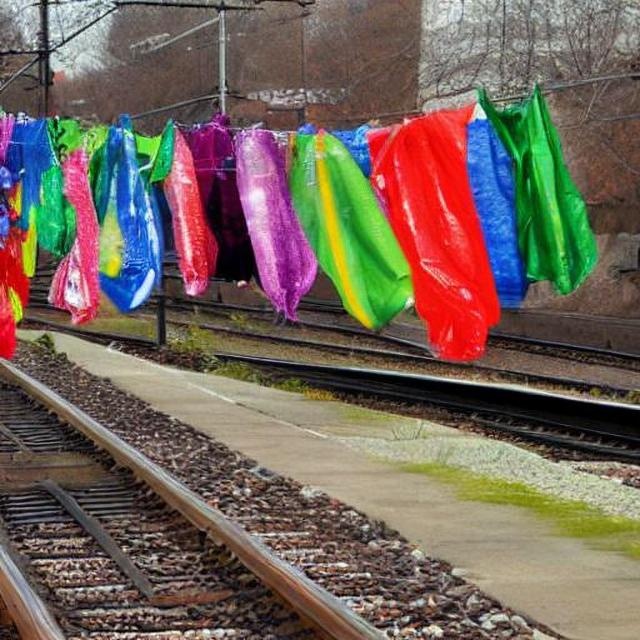plastic bag: (4, 93, 602, 300)
